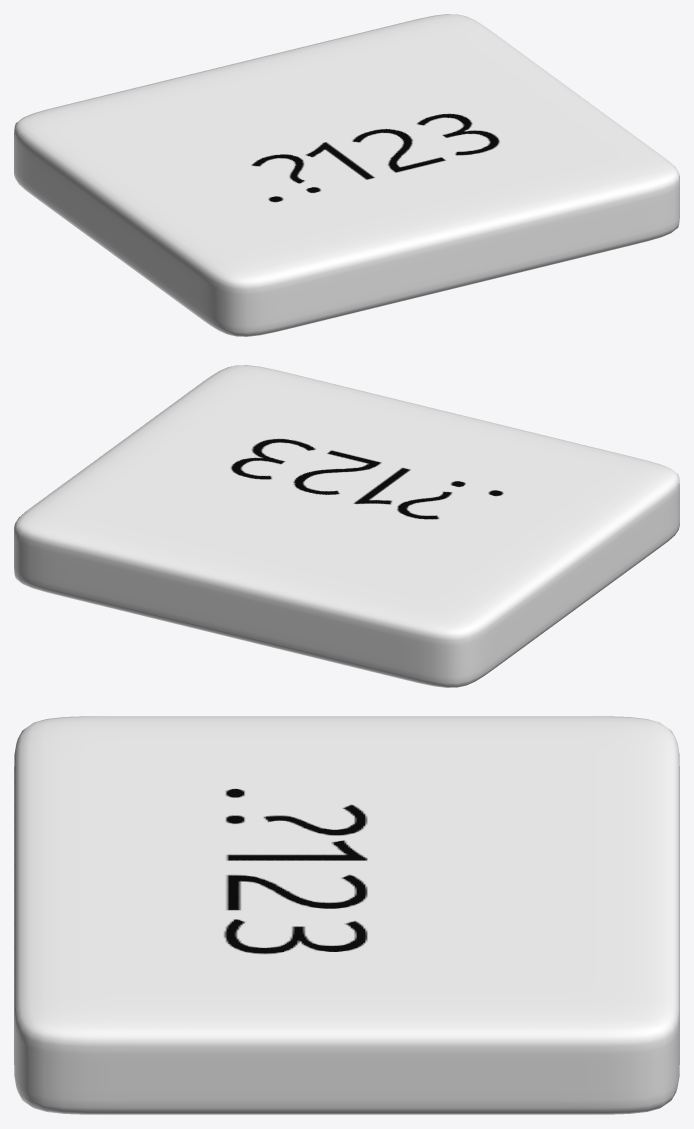
The model's file is 2_left_123.fbx.
3 views of the same model, one above another, from view 1: azimuth 30°, elevation 25°; view 2: azimuth 150°, elevation 25°; view 3: azimuth 270°, elevation 25° (orthographic). The views are drawn at different scales.
Visible parts, largest first — view 1: 立方体; view 2: 立方体; view 3: 立方体.
Boxes of the visible parts, x1=… form: 立方体: x1=14, y1=14, x2=679, y2=336; 立方体: x1=14, y1=365, x2=679, y2=687; 立方体: x1=14, y1=716, x2=679, y2=1114.
Size of the model in its own units: 230 by 30 by 200.
Materials: 1 (1 with a texture image).
